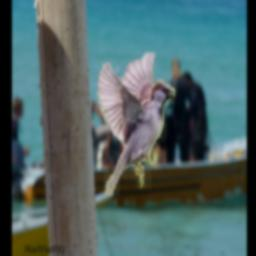Sparrow: (96, 52, 176, 196)
